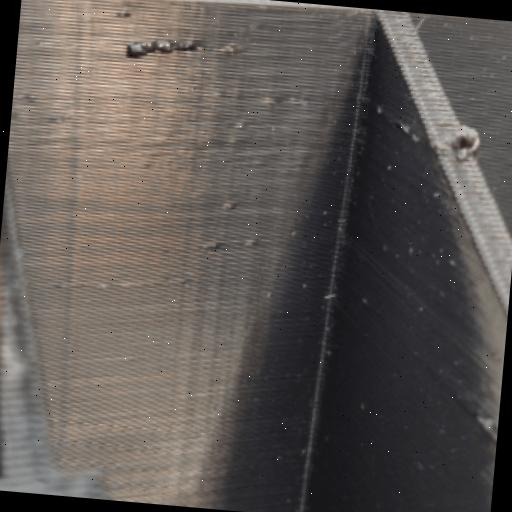blobs: (109, 6, 216, 78), (197, 196, 278, 276), (430, 118, 492, 179)
